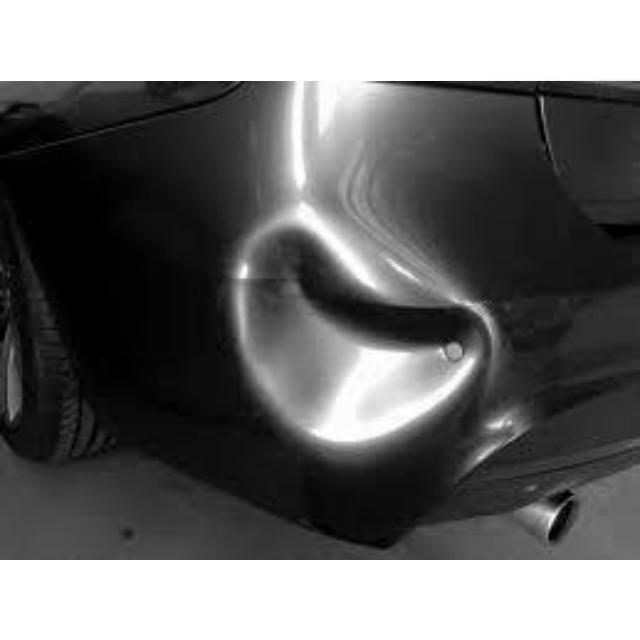rear-bumper-dent: (38, 162, 621, 545)
